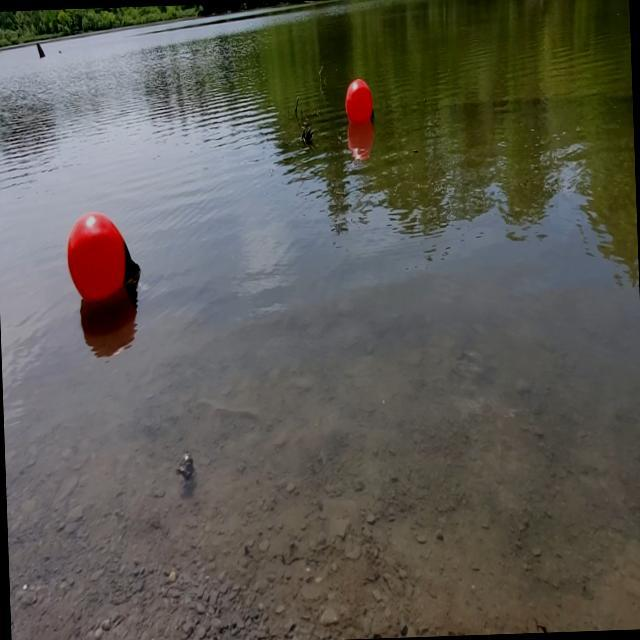buoy: (66, 208, 142, 308), (345, 76, 375, 126)
